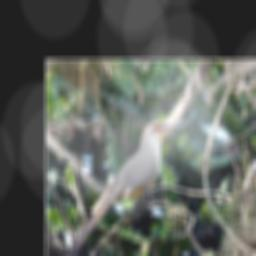Cuckoo: (61, 120, 188, 256)
